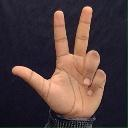hand: (11, 5, 106, 120)
